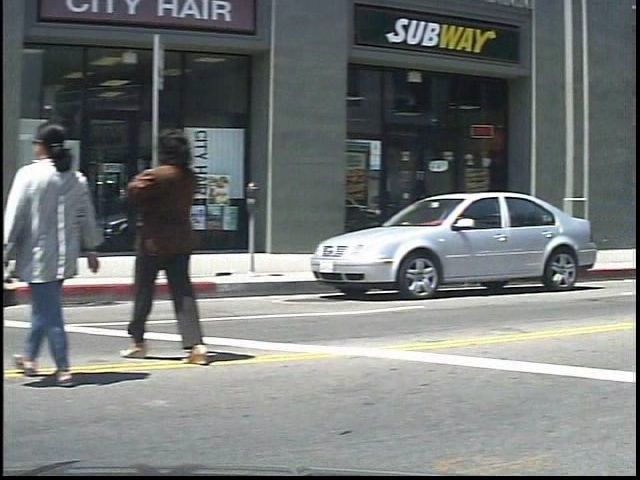person: (16, 115, 121, 389), (128, 121, 226, 365)
